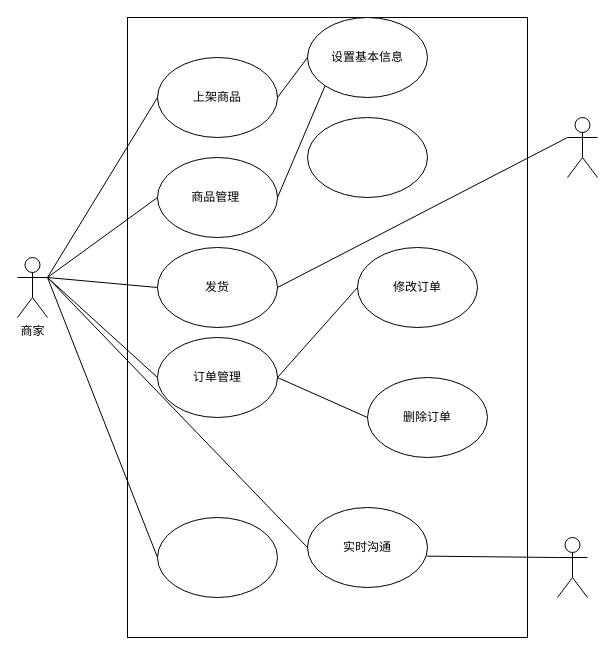
Image size: 615x655. Some labels were removed from this diagram. Each missing label, with the centre of its shape:
"上传图片" belongs at point (367, 157).
"客户" belongs at point (572, 567).
"物流" belongs at point (582, 147).
"订单功能设置" belongs at point (217, 557).
